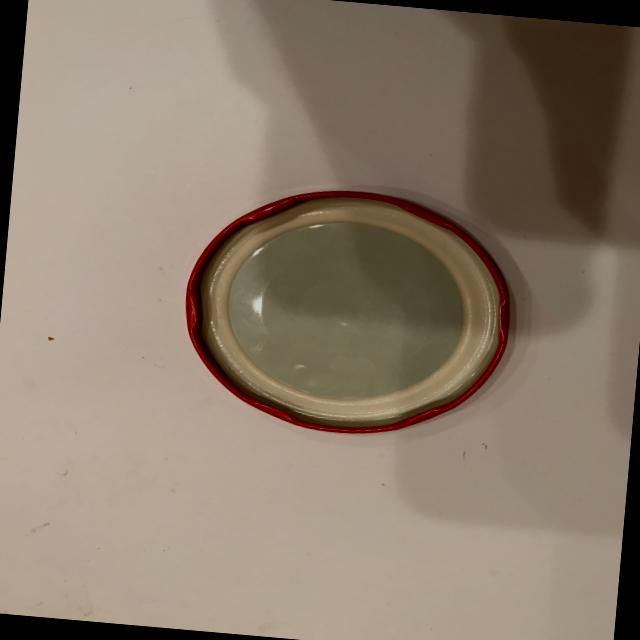Metal: (166, 168, 532, 464)
